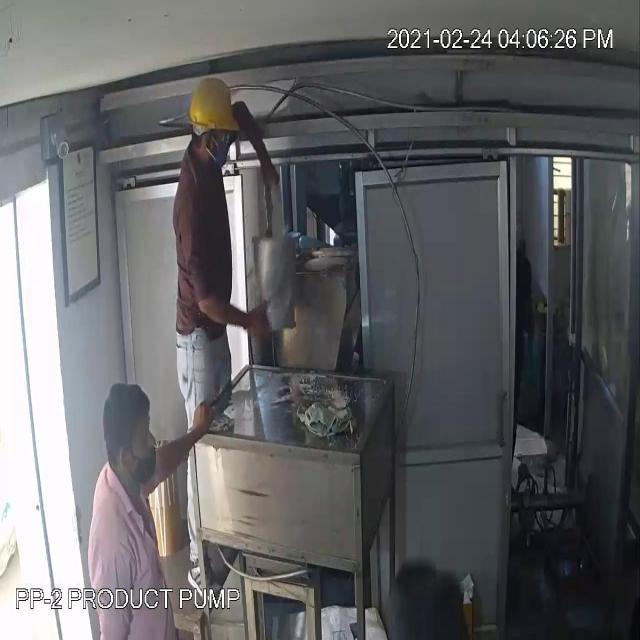helmet: (186, 68, 244, 142)
no-helmet: (100, 376, 162, 456)
